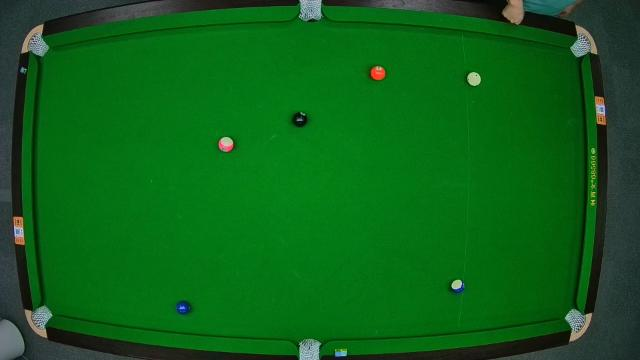bag1: (27, 36, 47, 54)
bag2: (300, 1, 322, 21)
bag3: (572, 38, 592, 56)
bag4: (31, 305, 50, 327)
bag5: (299, 341, 321, 359)
bag6: (566, 311, 586, 333)
ball0: (467, 72, 483, 86)
ball10: (450, 279, 466, 295)
ball12: (218, 136, 234, 153)
ball2: (176, 300, 192, 316)
ball5: (370, 64, 386, 80)
ball8: (290, 112, 308, 127)
